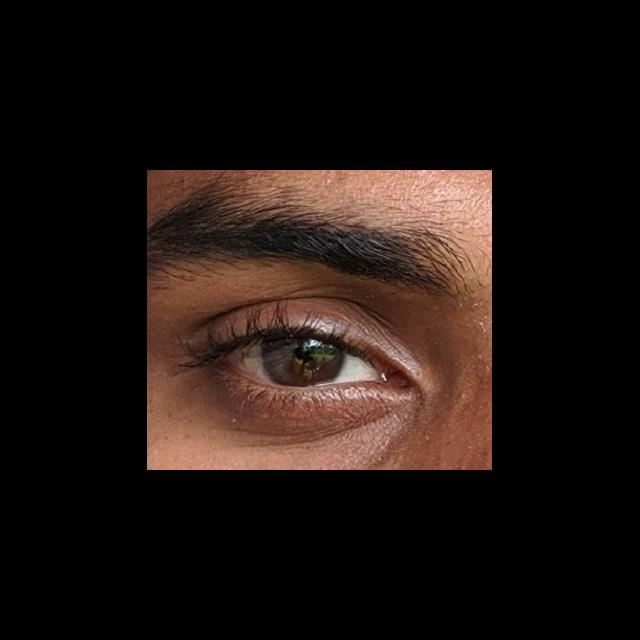eye: (232, 329, 380, 388)
iris: (262, 332, 344, 385)
